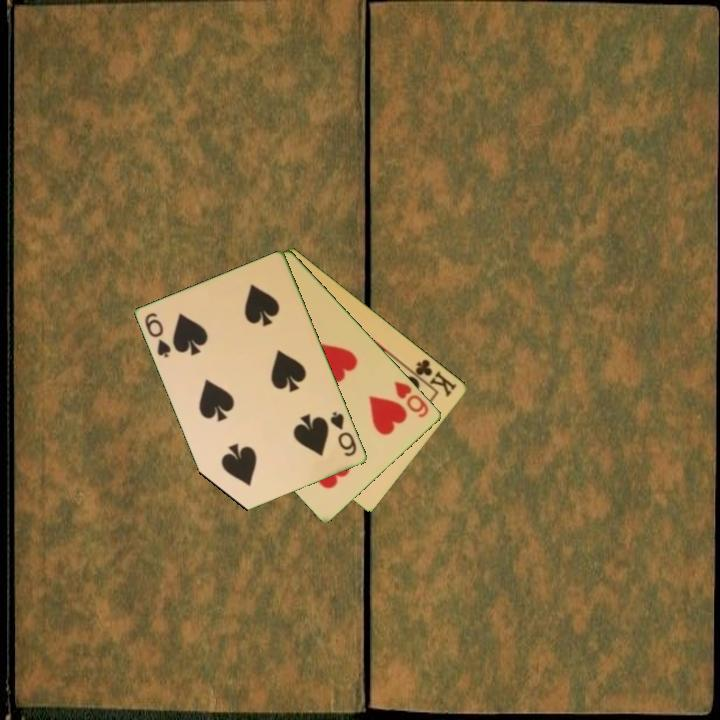6h: (390, 377, 432, 421)
6s: (327, 408, 360, 460), (141, 309, 174, 361)
Kc: (406, 356, 460, 400)
